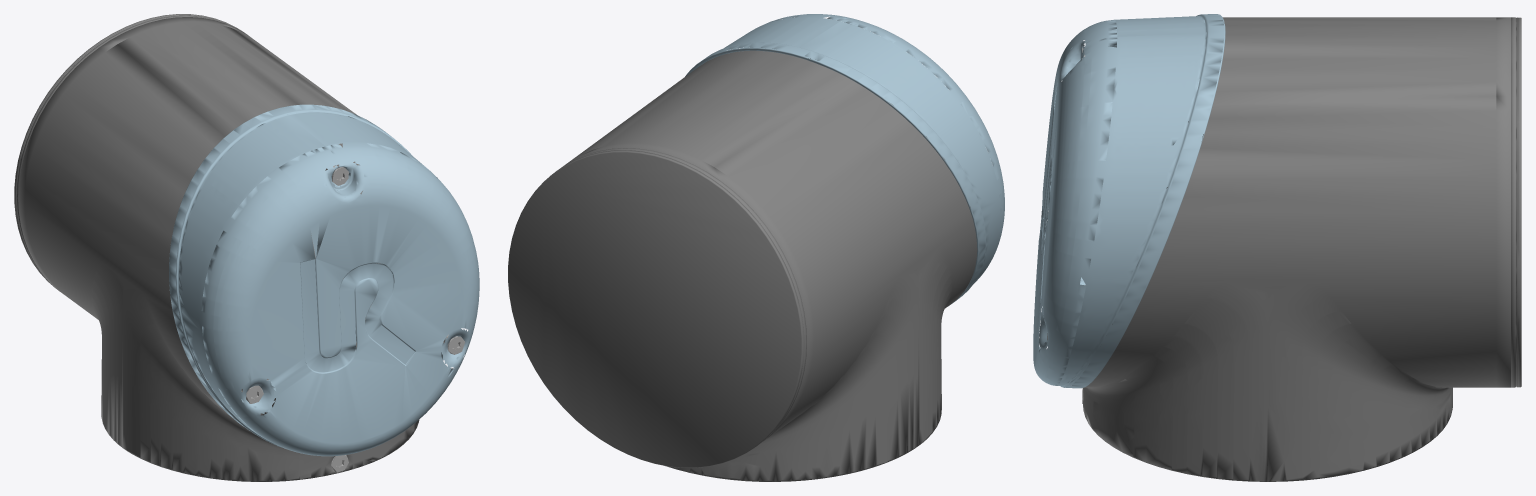
Rendered from wrist2.gltf.
3 renders of one model, left to right at view 1: azimuth 30°, elevation 25°; view 2: azimuth 150°, elevation 25°; view 3: azimuth 270°, elevation 25°, orthographic. The views are drawn at different scales.
Visible parts, largest first — view 1: node-shape1-name, node-shape0-name, node-shape2-name; view 2: node-shape0-name, node-shape1-name; view 3: node-shape0-name, node-shape1-name.
Part boxes in pixels (x1,y1,x2,y2): node-shape1-name: [169, 104, 479, 456]; node-shape0-name: [14, 14, 419, 481]; node-shape2-name: [241, 165, 464, 472]; node-shape0-name: [508, 50, 977, 481]; node-shape1-name: [685, 14, 1004, 306]; node-shape0-name: [1083, 17, 1521, 481]; node-shape1-name: [1033, 14, 1225, 388].
Size of the model in its own units: 0.091 by 0.0999 by 0.1188.
